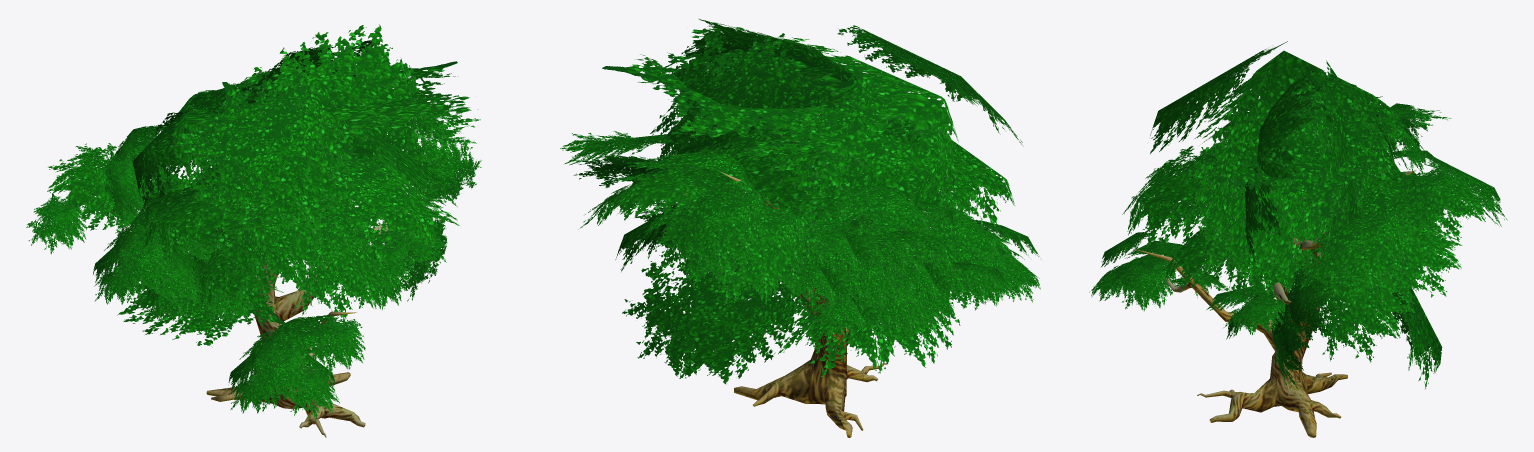
Rendered from jungle_tree_1.glb.
3 renders of one model, left to right at view 1: azimuth 30°, elevation 25°; view 2: azimuth 150°, elevation 25°; view 3: azimuth 270°, elevation 25°, orthographic. The views are drawn at different scales.
Visible parts, largest first — view 1: jungle_tree_1_export.002; view 2: jungle_tree_1_export.002; view 3: jungle_tree_1_export.002.
Boxes of the visible parts, <box> form: jungle_tree_1_export.002: <box>26,24,481,437</box>; jungle_tree_1_export.002: <box>560,18,1040,437</box>; jungle_tree_1_export.002: <box>1089,41,1507,437</box>.
Size of the model in its own units: 23.74 by 18.3 by 20.14.
1 material, 1 textured.
